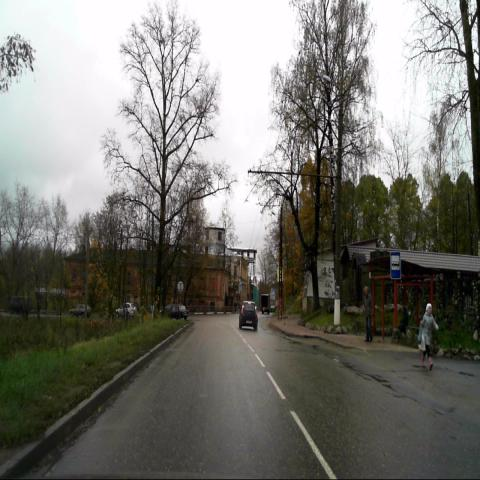5_16: (388, 250, 402, 282)
